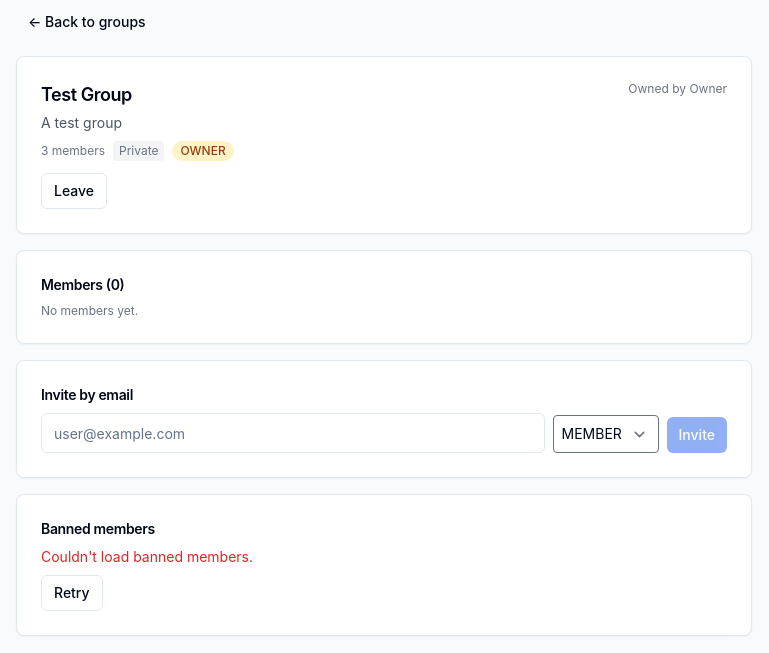
banned members section — who sees it › a failed first load is an alert with a Retry that loads the list
This screenshot has width=769, height=653.
Expected: the message reads "Couldn't load banned members.", [41,548,253,565]
Click the button with aria-label "Retry loading banned members" at (72, 593), box [41,575,103,611]
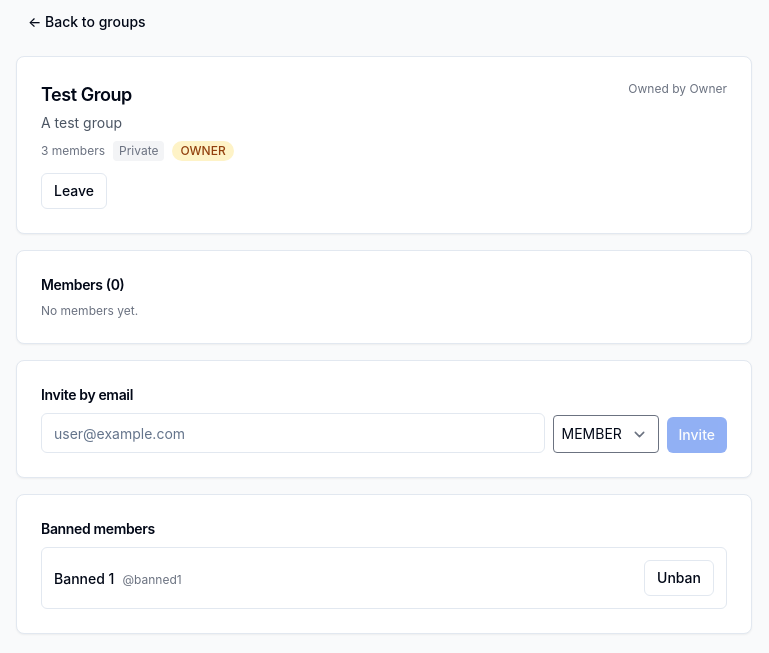
Expected: the text "Banned 1" is shown, [54,570,114,587]
Expected: the message "Couldn't load banned members." is gone
